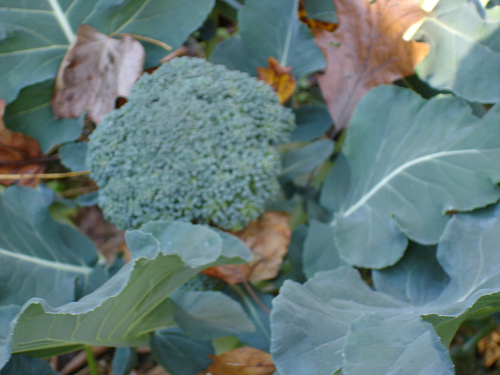broccoli: (85, 54, 293, 232)
